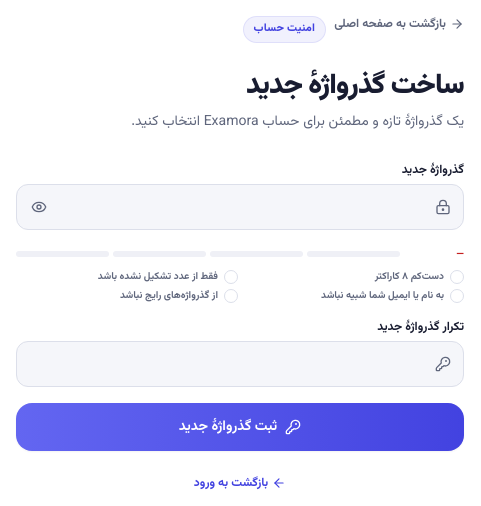
with a usable link › advises on strength while typing, the same way sign-up does
Type "24681357" into the password field labelled "گذرواژهٔ جدید" at (244, 207), box [61,185,427,229]
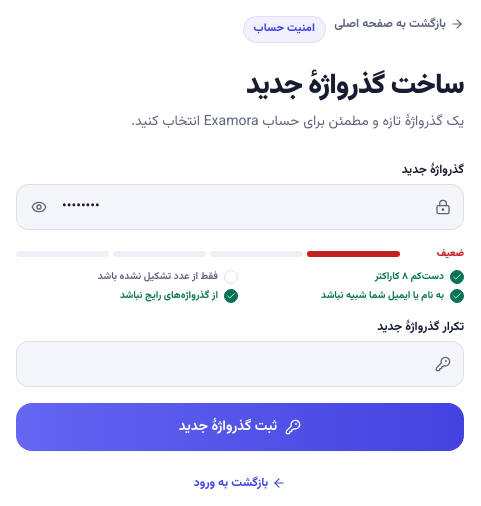
Type "24681357" into the password field labelled "تکرار گذرواژهٔ جدید" at (228, 364), box [29,342,427,386]
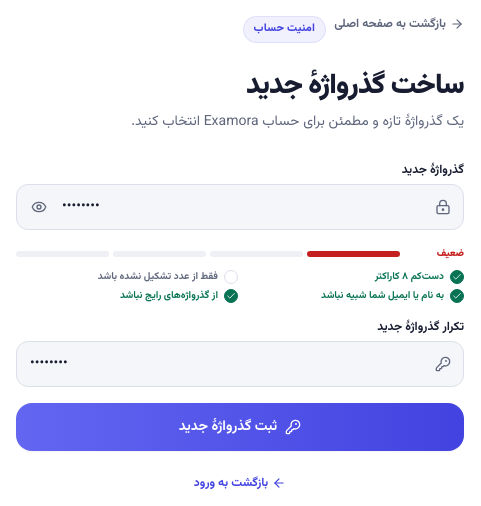
Type "کوهستان-2468-Ab!" into the password field labelled "گذرواژهٔ جدید" at (244, 207), box [61,185,427,229]
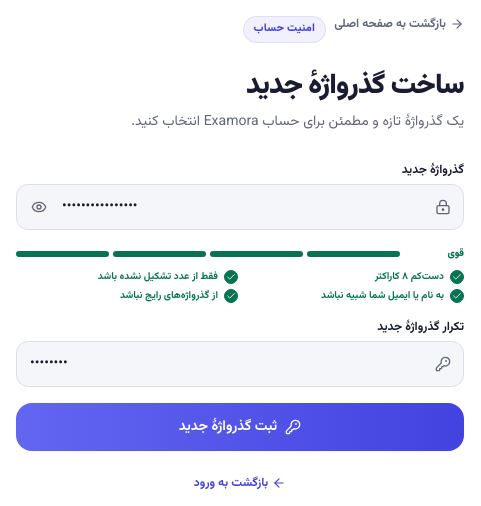
Now the text "قوی" is shown, box [447,246,464,261]
